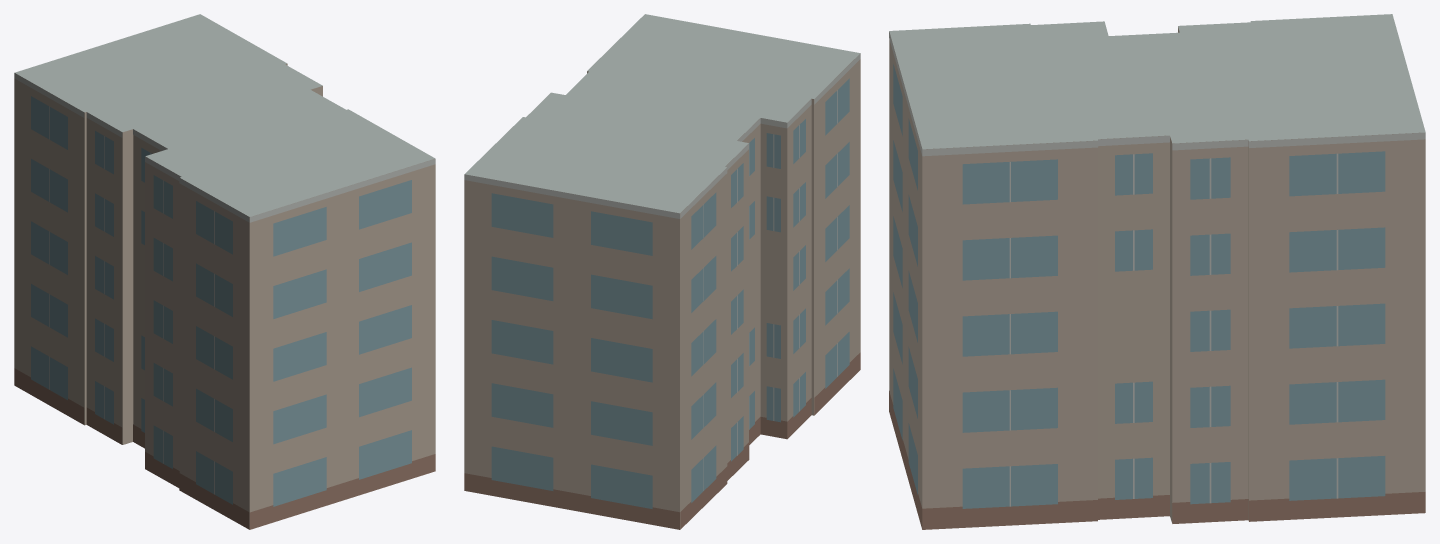
File: survey-upis-32971369.glb
3 renders of one model, left to right at view 1: azimuth 30°, elevation 25°; view 2: azimuth 150°, elevation 25°; view 3: azimuth 270°, elevation 25°, orthographic. The views are drawn at different scales.
Parts seen in each view (by area): view 1: survey-upis-32971369.tmp; view 2: survey-upis-32971369.tmp; view 3: survey-upis-32971369.tmp.
Part boxes in pixels (x1,y1,x2,y2): survey-upis-32971369.tmp: (14,14,435,529); survey-upis-32971369.tmp: (464,14,860,529); survey-upis-32971369.tmp: (889,14,1425,529).
Size of the model in its own units: 10.18 by 13.34 by 17.06.
